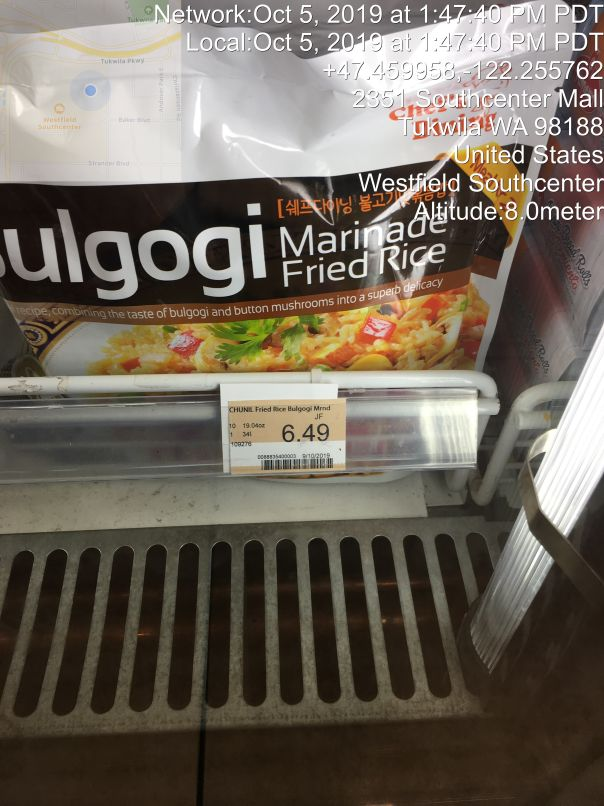Chune Fried rice: (7, 25, 581, 373)
Label: (211, 380, 364, 492)
Location: (346, 82, 604, 198)
Time: (149, 2, 604, 53)
